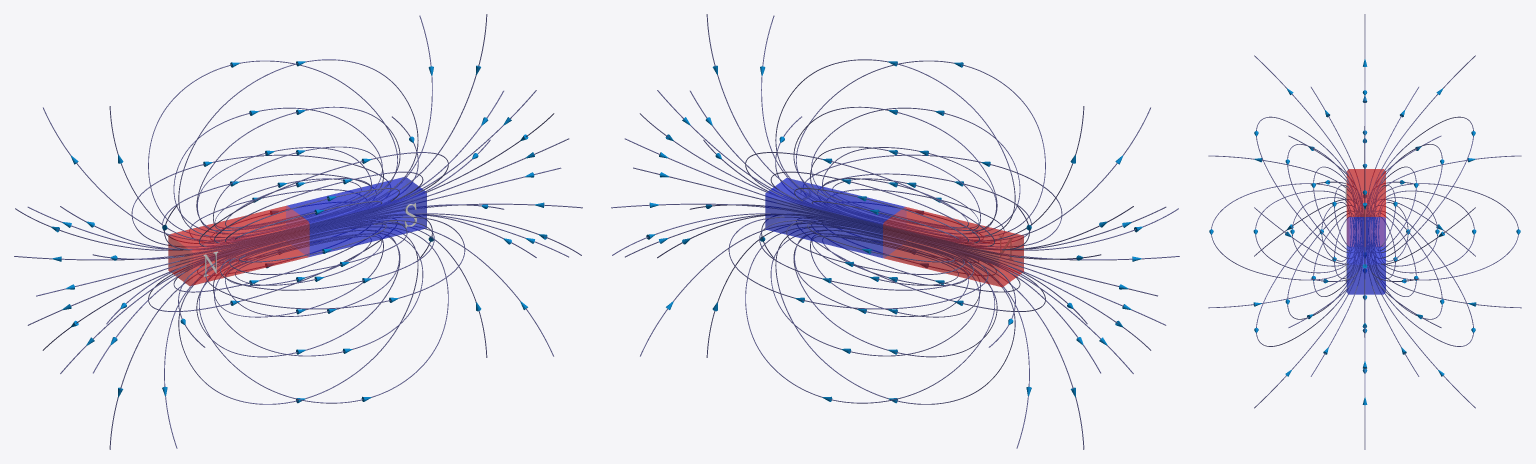
File: ciganxian_duotao.fbx
The picture shows the model from 3 angles, left to right: view 1: azimuth 30°, elevation 25°; view 2: azimuth 150°, elevation 25°; view 3: azimuth 270°, elevation 25°; orthographic projection. The views are drawn at different scales.
Parts seen in each view (by area): view 1: duotao1; view 2: duotao1; view 3: duotao1.
Boxes of the visible parts, left/top/right/bottom form: duotao1: left=14, top=14, right=582, bottom=449; duotao1: left=611, top=14, right=1179, bottom=449; duotao1: left=1208, top=14, right=1521, bottom=449.
Size of the model in its own units: 16 by 10.02 by 10.02.
